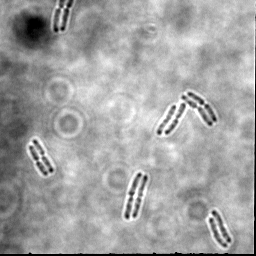Dividing: (181, 94, 214, 126), (186, 90, 218, 123), (124, 170, 143, 220), (31, 138, 55, 174), (132, 174, 150, 219), (163, 102, 186, 135), (211, 209, 233, 243), (27, 144, 49, 177), (208, 216, 229, 248), (156, 104, 177, 136), (59, 1, 76, 32), (52, 1, 67, 33)
